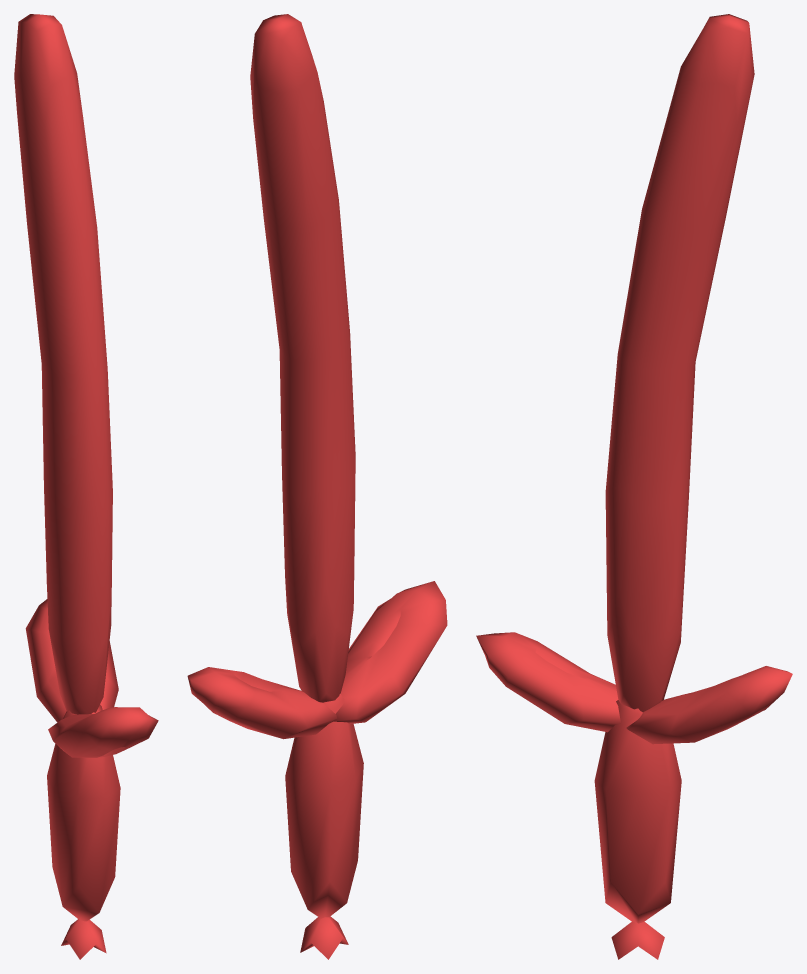
Rendered from Asset_BalloonSword_01.fbx.
3 views of the same model, side by side, from view 1: azimuth 30°, elevation 25°; view 2: azimuth 150°, elevation 25°; view 3: azimuth 270°, elevation 25° (orthographic). The views are drawn at different scales.
Visible parts, largest first — view 1: Asset_BalloonSword_01; view 2: Asset_BalloonSword_01; view 3: Asset_BalloonSword_01.
Part boxes in pixels (x1=…): Asset_BalloonSword_01: x1=14, y1=14, x2=158, y2=959; Asset_BalloonSword_01: x1=187, y1=14, x2=447, y2=959; Asset_BalloonSword_01: x1=476, y1=14, x2=792, y2=959.
Size of the model in its own units: 9.86 by 65.63 by 20.12.
